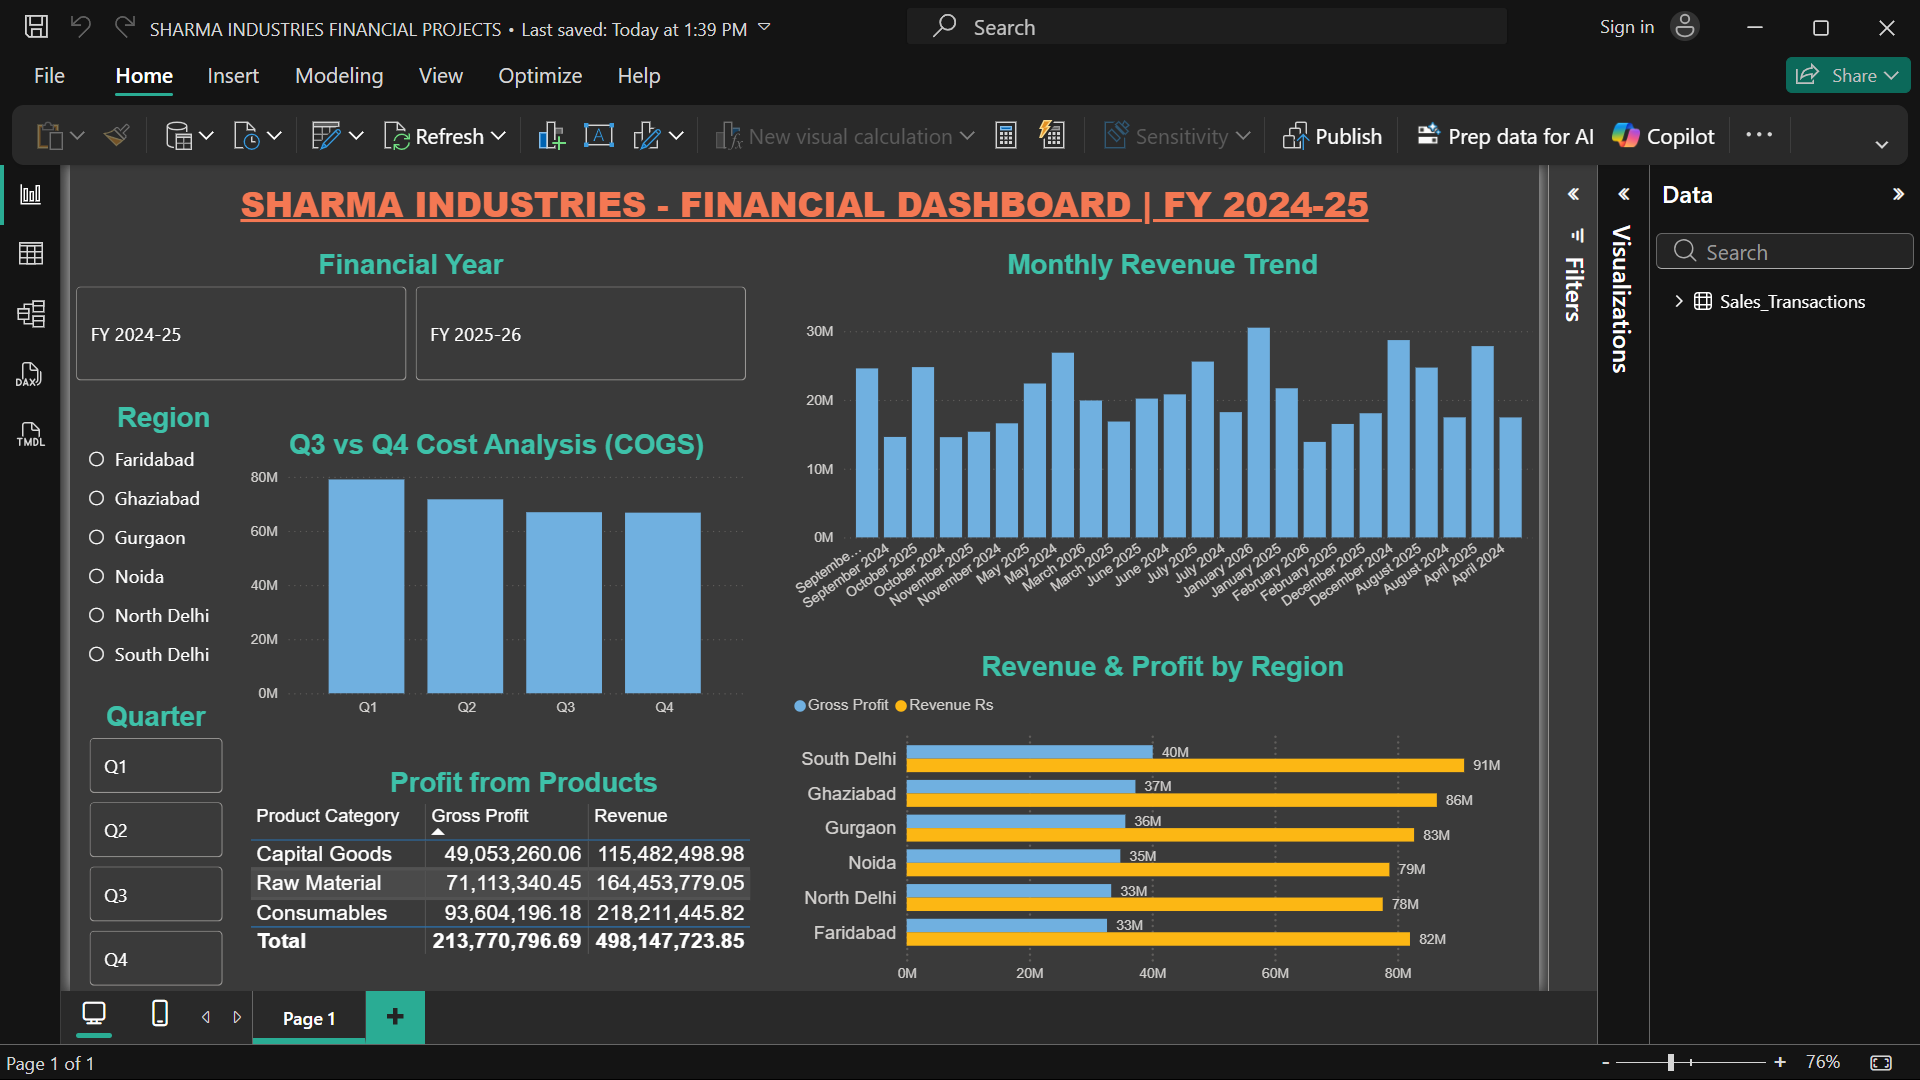

What the dashboard file says about the page in this screenshot:
{"tool":"powerbi","page":{"name":"Page 1","canvas":[1280,720],"ordinal":0},"visuals":[{"type":"lineStackedColumnComboChart","title":"Monthly Revenue Trend","fields":{"Category":["Sales_Transactions.Month Name"],"Y":["Sum(Sales_Transactions.Revenue_Rs)"]},"box":[625.5,73.7,655,334.1],"z":0},{"type":"clusteredBarChart","title":"Revenue & Profit by Region","fields":{"Category":["Sales_Transactions.Region"],"Y":["Sum(Sales_Transactions.Gross_Profit_Rs)","Sum(Sales_Transactions.Revenue_Rs)"]},"box":[625.5,424.1,655,296.4],"z":1000},{"type":"lineClusteredColumnComboChart","title":"Q3 vs Q4 Cost Analysis (COGS)","fields":{"Category":["Sales_Transactions.Quarter"],"Y":["Sum(Sales_Transactions.COGS_Rs)"]},"box":[151.8,230.4,440.2,258],"z":2000},{"type":"tableEx","title":"Profit from Products","fields":{"Values":["Sales_Transactions.Product_Category","Sum(Sales_Transactions.Gross_Profit_Rs)","Sum(Sales_Transactions.Revenue_Rs)"]},"box":[152.3,524,488,196.5],"z":3000},{"type":"listSlicer","fields":{"Values":["Sales_Transactions.Region"]},"box":[9.7,207,144.9,247],"z":4000},{"type":"advancedSlicerVisual","fields":{"Values":["Sales_Transactions.Quarter"]},"box":[11.5,466.7,126.1,253.8],"z":5000},{"type":"textbox","title":"SHARMA INDUSTRIES - FINANCIAL DASHBOARD | FY 2024-25","box":[0,13.1,1280.6,39.3],"z":6000},{"type":"advancedSlicerVisual","title":"Financial Year","fields":{"Values":["Sales_Transactions.Financial_Year"]},"box":[0,73.7,594.4,119.5],"z":7000}]}

Visuals, with their boxes on the page's 1280x720 design canvas (x1, y1, x2, y2). These are canvas units, not pixel positions in the 1920x1080 screenshot, which may show the page scaled, cropped or inside an application window:
"Monthly Revenue Trend" lineStackedColumnComboChart: x1=626, y1=74, x2=1280, y2=408
"Revenue & Profit by Region" clusteredBarChart: x1=626, y1=424, x2=1280, y2=720
"Q3 vs Q4 Cost Analysis (COGS)" lineClusteredColumnComboChart: x1=152, y1=230, x2=592, y2=488
"Profit from Products" tableEx: x1=152, y1=524, x2=640, y2=720
listSlicer - Sales_Transactions.Region: x1=10, y1=207, x2=155, y2=454
advancedSlicerVisual - Sales_Transactions.Quarter: x1=12, y1=467, x2=138, y2=720
"SHARMA INDUSTRIES - FINANCIAL DASHBOARD | FY 2024-25" textbox: x1=0, y1=13, x2=1281, y2=52
"Financial Year" advancedSlicerVisual: x1=0, y1=74, x2=594, y2=193
